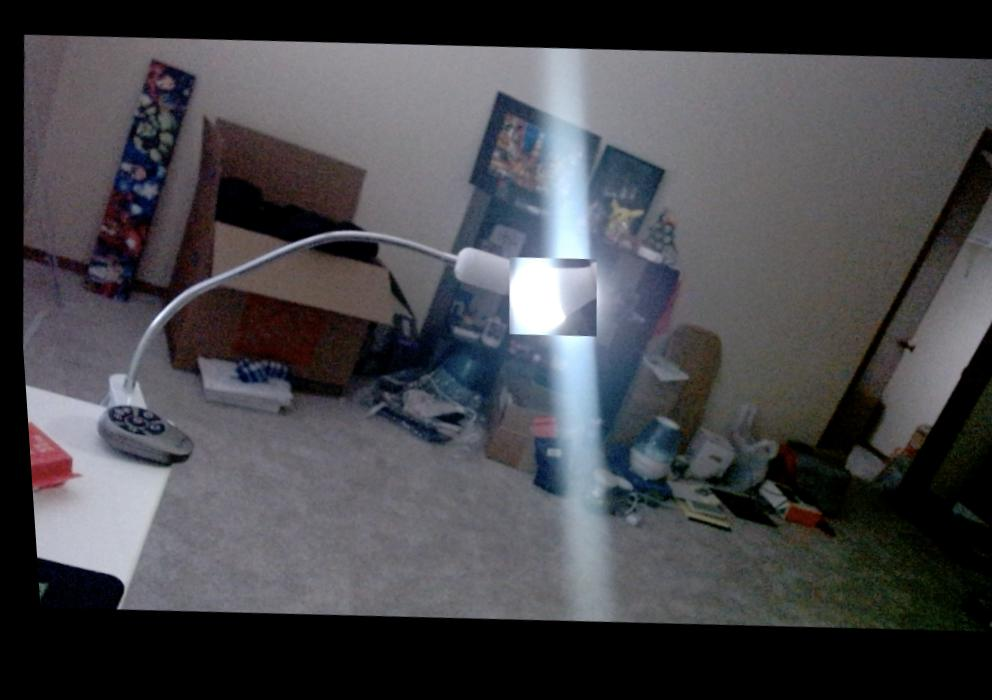TubeLight: (500, 257, 596, 344)
